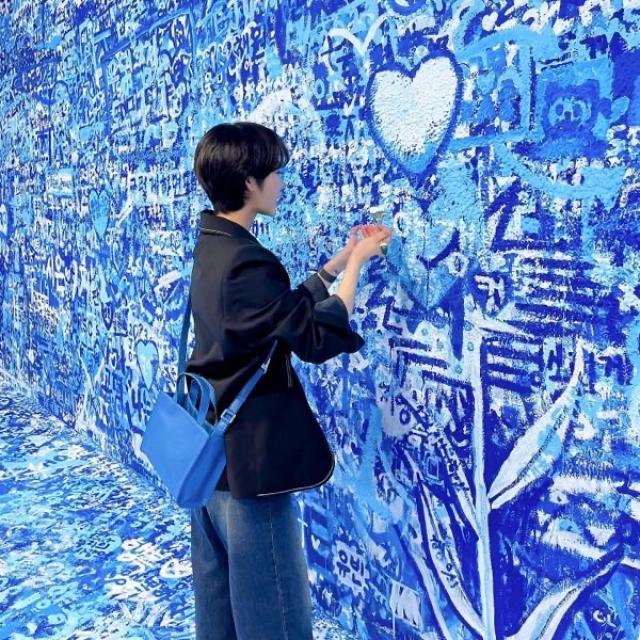blazer: (188, 205, 363, 495)
denimpants: (185, 479, 314, 640)
